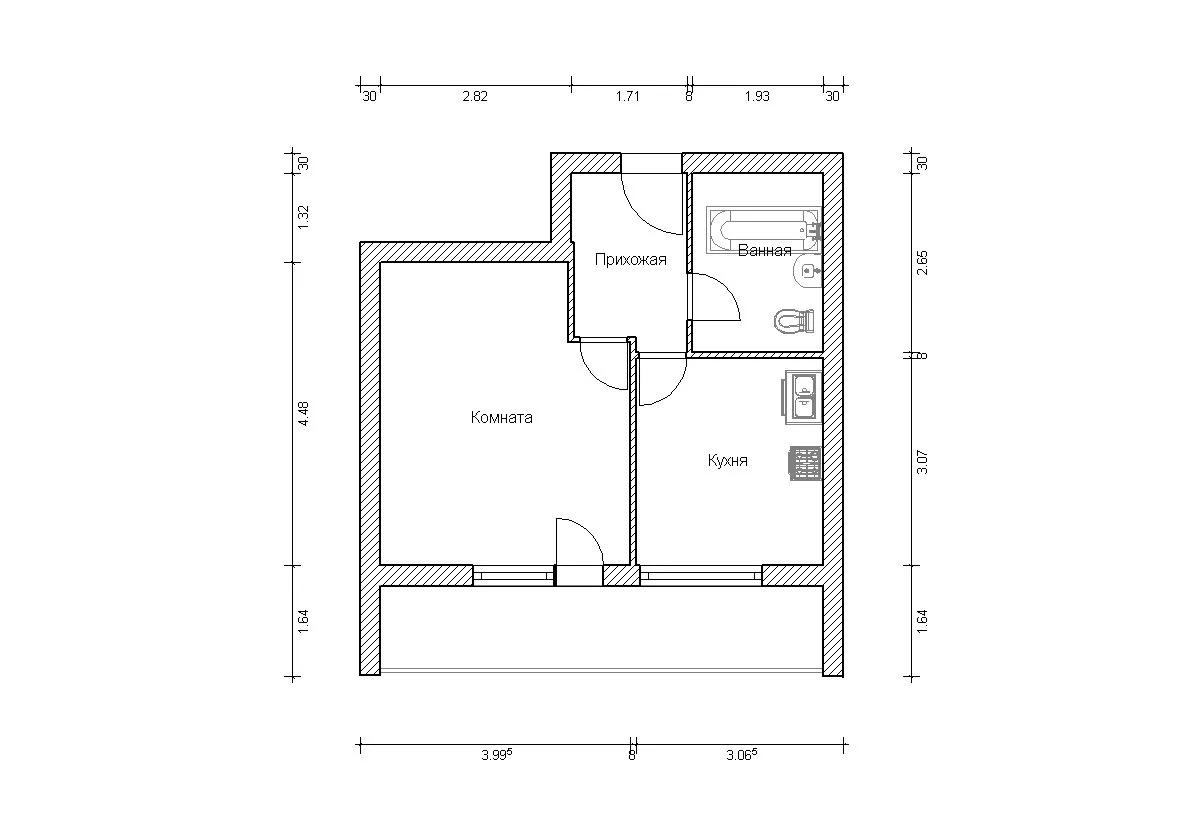bathroom: (692, 173, 823, 352)
kitchen: (636, 358, 823, 566)
living_room: (380, 262, 631, 566), (571, 172, 688, 351)
terrace: (381, 587, 823, 670)
